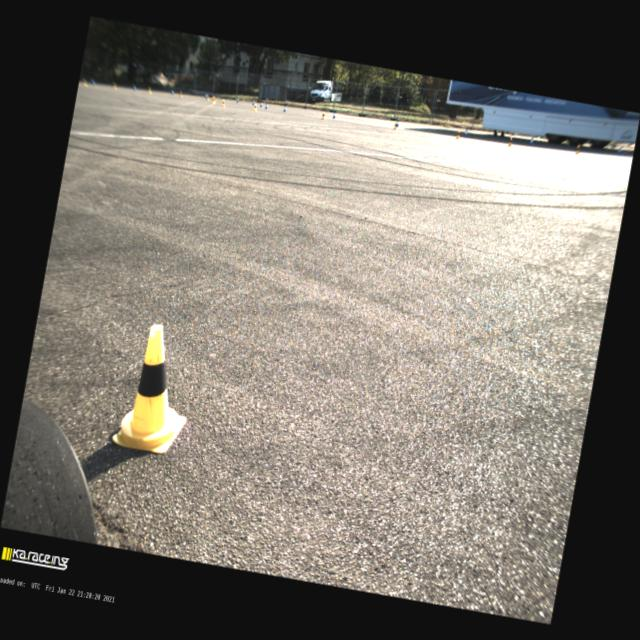blue_cone: (463, 128, 468, 136), (396, 119, 400, 127), (529, 137, 533, 145), (332, 111, 336, 118), (264, 102, 268, 109), (283, 105, 287, 111), (170, 90, 173, 96), (251, 100, 254, 105), (259, 102, 262, 106), (236, 98, 239, 102), (204, 93, 206, 98)
yellow_cone: (110, 319, 200, 456), (455, 129, 461, 139), (507, 136, 513, 146), (574, 144, 580, 154), (392, 121, 398, 129), (320, 112, 326, 120), (252, 102, 258, 110), (147, 88, 152, 94), (210, 97, 214, 104), (221, 100, 225, 106), (179, 92, 183, 97), (206, 95, 209, 100)
